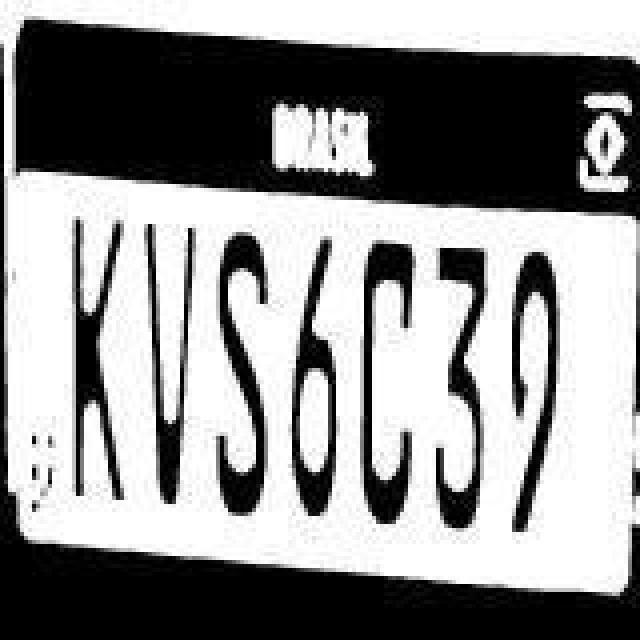3: (426, 222, 494, 538)
6: (284, 222, 356, 530)
9: (496, 224, 568, 536)
C: (356, 220, 420, 532)
K: (66, 214, 142, 522)
S: (208, 224, 280, 528)
V: (146, 210, 206, 526)
